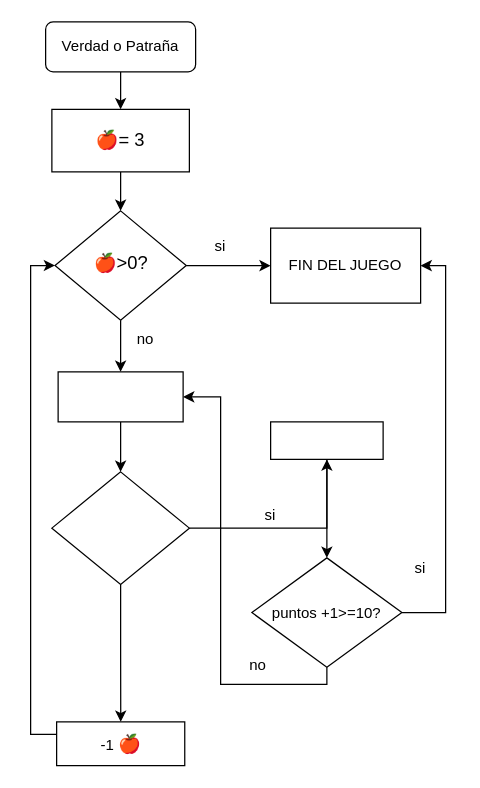
This 480x788 diagram has some shape labels left out. The shapes that lost their labels are listed below. From the top down, each one's centre as x and y in pixels, then its label:
pixel 120 396: Pregunta nueva
pixel 326 440: puntos +1
pixel 120 527: Respuesta correcta?
